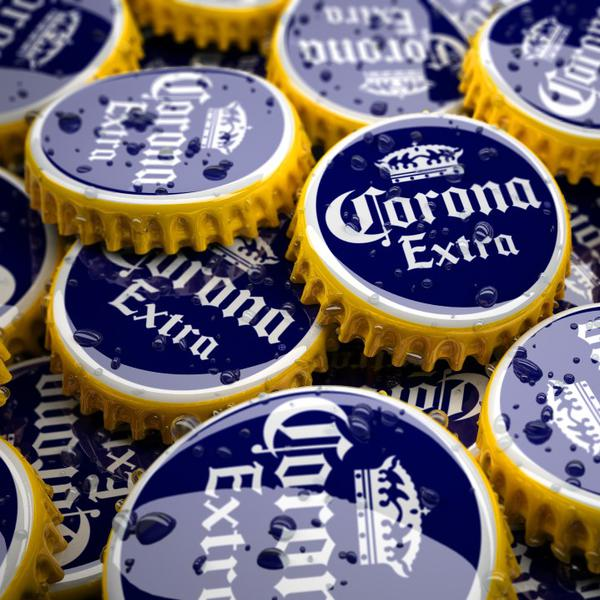corona: (100, 385, 508, 600), (303, 111, 567, 325), (57, 217, 319, 416), (26, 64, 304, 234)
